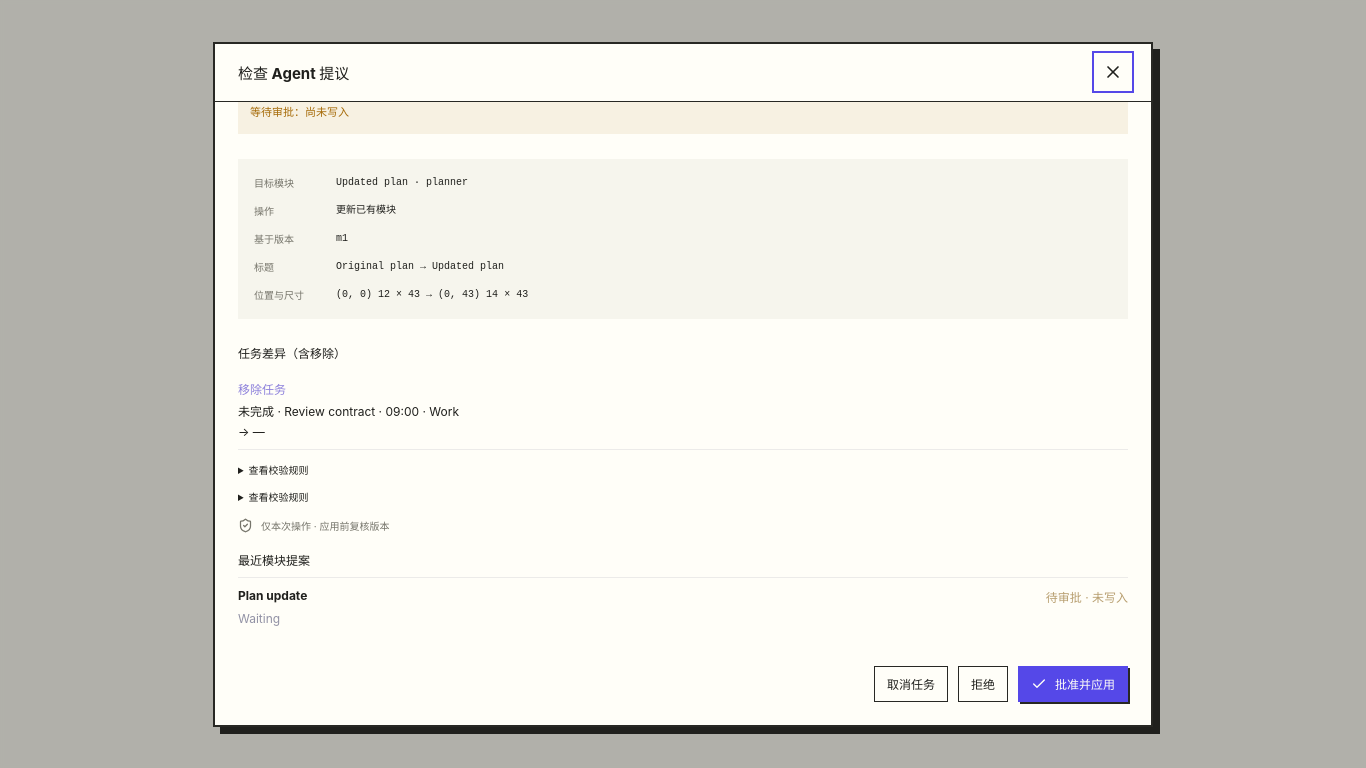
shared provider configuration and typed review › shows task removal, metadata and pending state and sends only an approval decision
The width and height of the screenshot is (1366, 768).
(page scrolled)
Expected: the button "取消任务" is shown, x1=874 y1=666 x2=948 y2=702
Click the button "批准并应用" at (1073, 684), box x1=1018 y1=666 x2=1128 y2=702
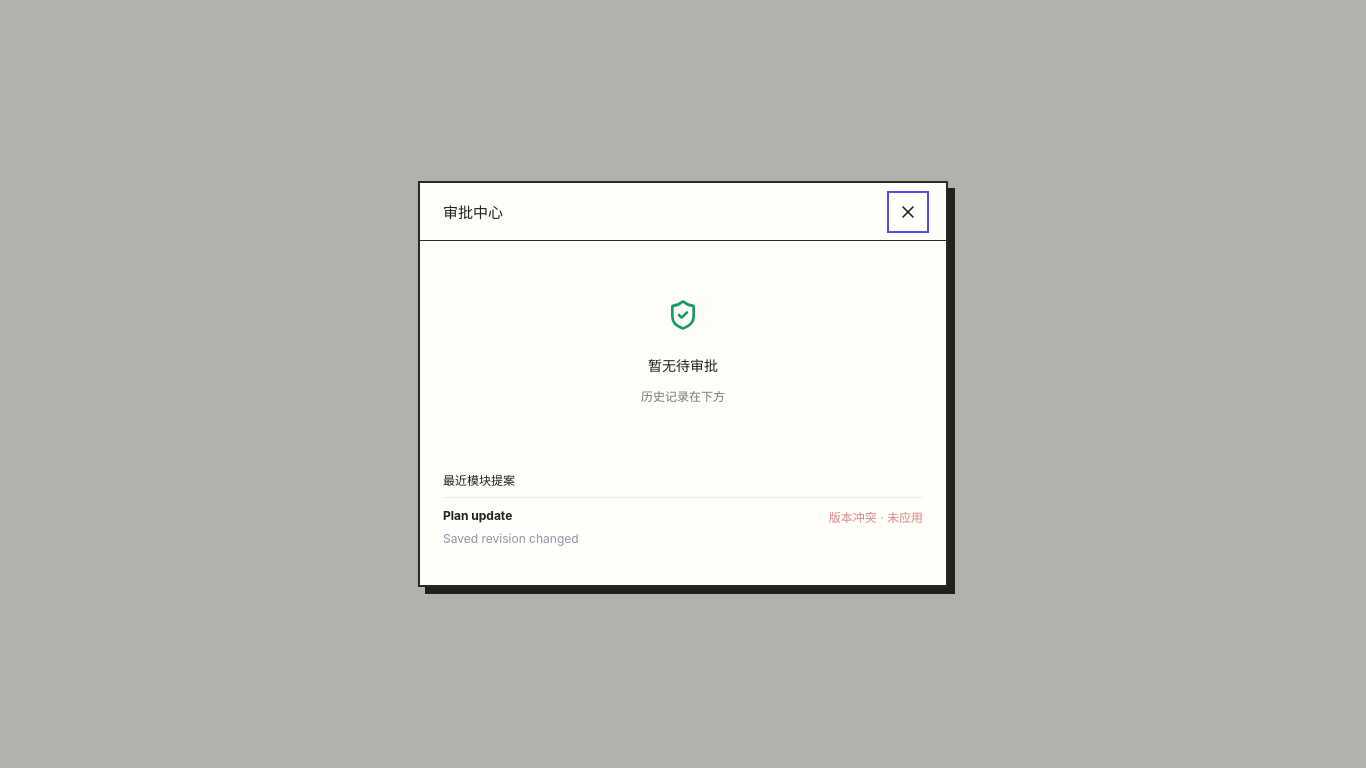
Expected: the text "版本冲突 · 未应用" is shown, x1=829 y1=508 x2=923 y2=525
